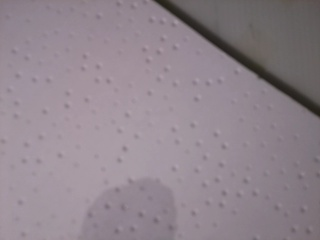Water_detected: (83, 181, 159, 240)
